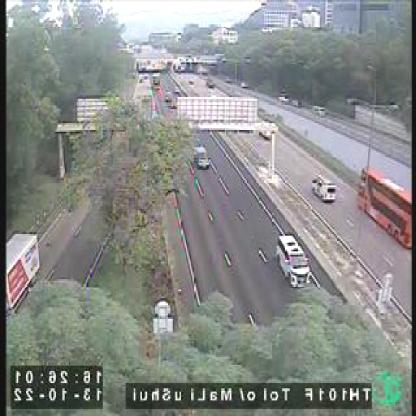Bus: (357, 167, 413, 250)
Car: (276, 232, 314, 286), (313, 175, 337, 202), (192, 145, 209, 169)
Truck: (6, 233, 40, 317)
